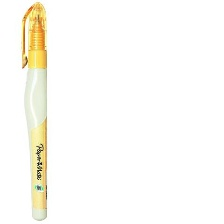correction_fluid: (19, 0, 51, 224)
